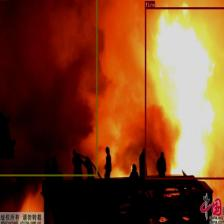fire: (144, 7, 224, 179)
smoke: (0, 0, 97, 176)
